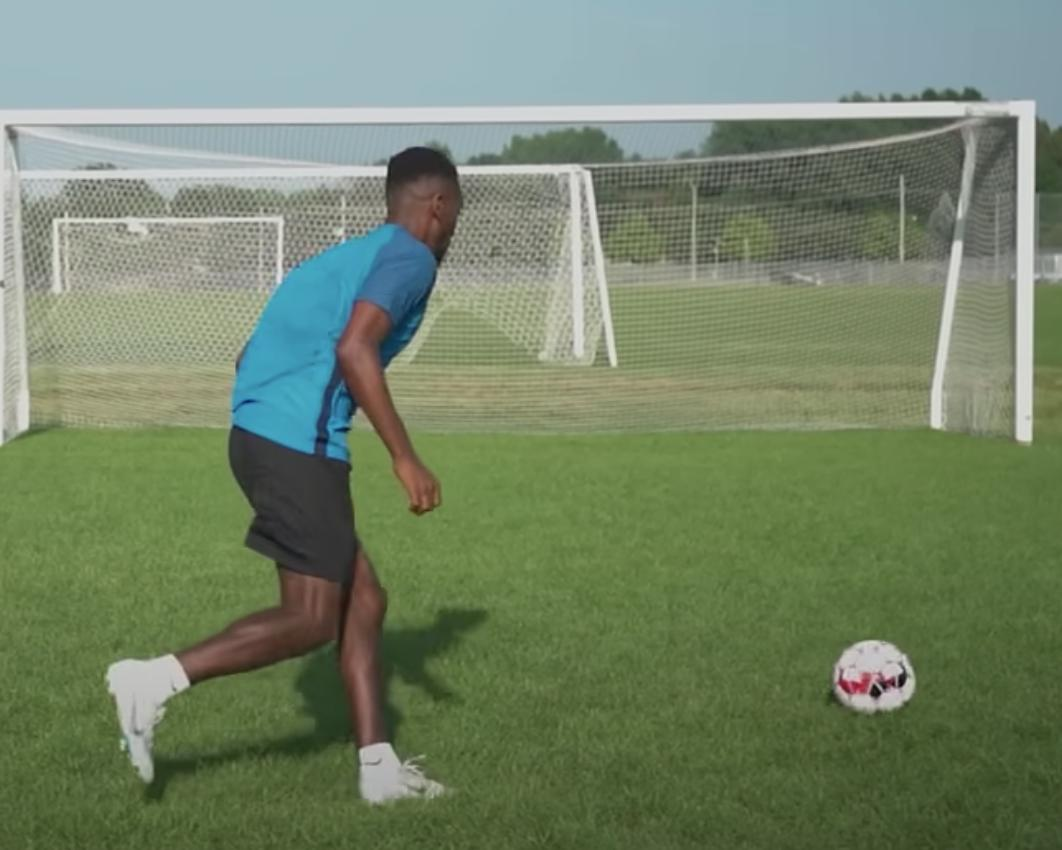ball: (832, 641, 915, 710)
foot: (107, 658, 164, 785), (358, 763, 454, 805)
person: (106, 146, 464, 804)
